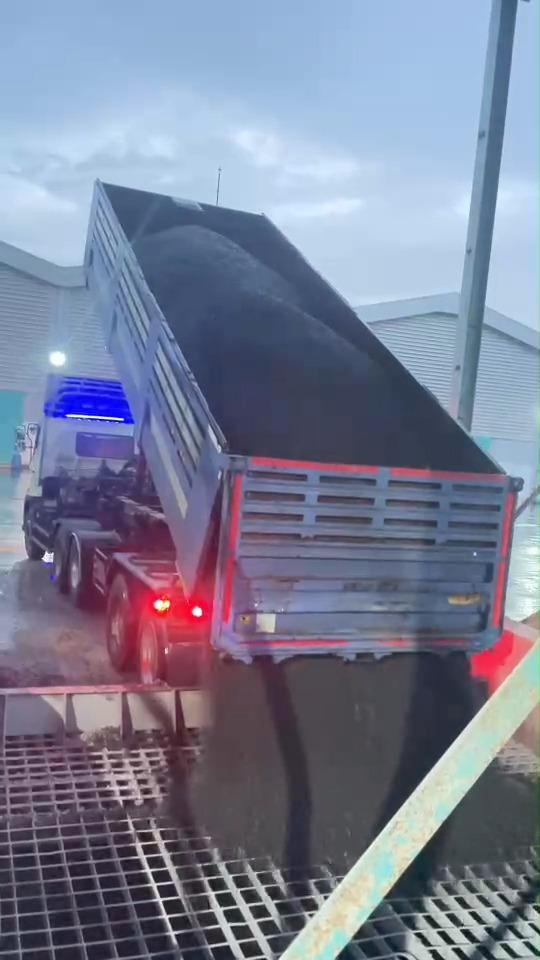gravel: (135, 227, 434, 466), (193, 654, 481, 871), (421, 772, 535, 872)
